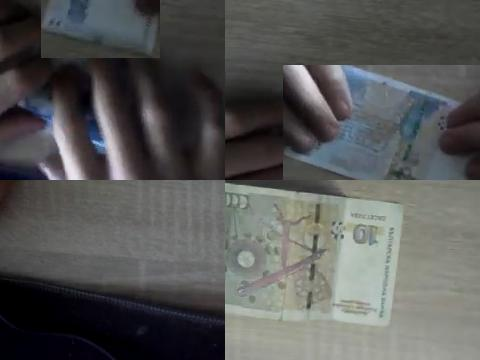20leva: (283, 65, 471, 180), (41, 0, 160, 58)
